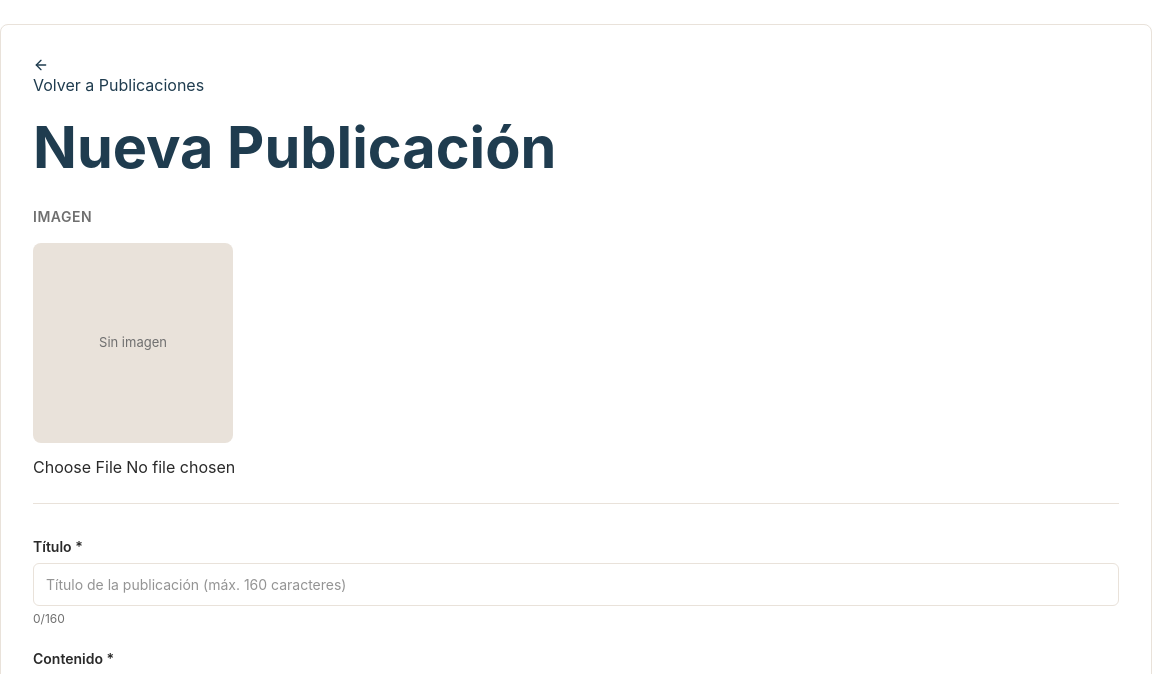
it: CreatePostForm › redirects to /admin/posts after success
Type "T" into the field labelled "Título *". click: [576, 585]
box: [33,563,1119,606]
(page scrolled)
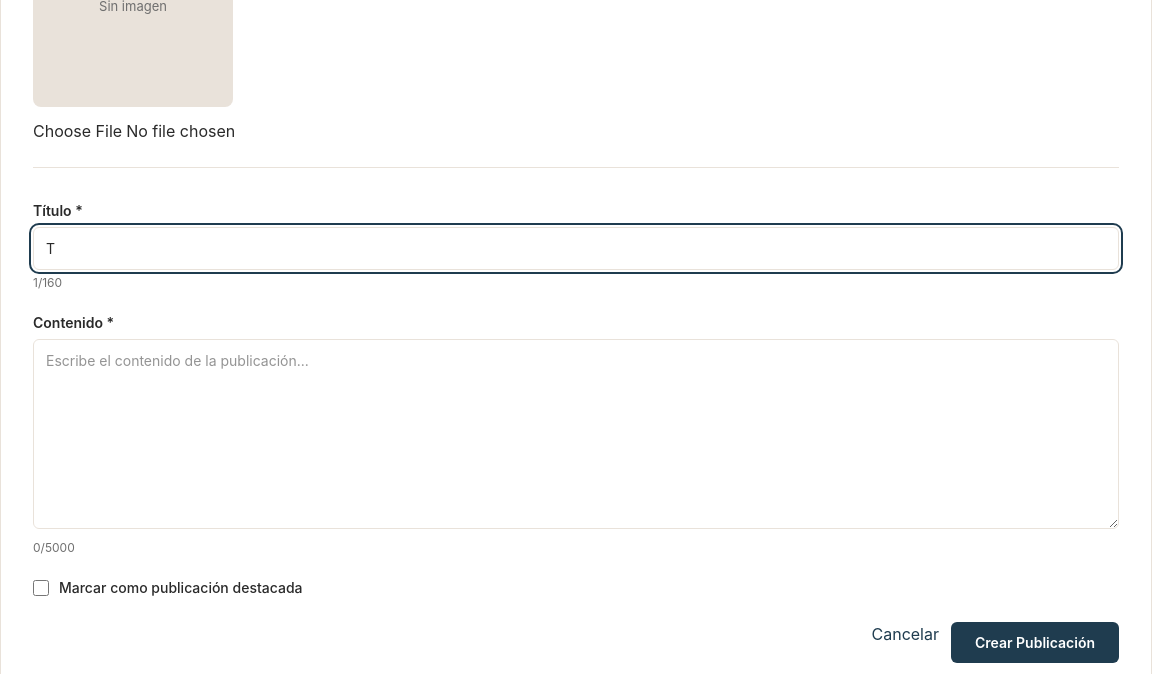
Type "B" into the text box labelled "Contenido *". click: [576, 434]
box: [33,339,1119,529]
(page scrolled)
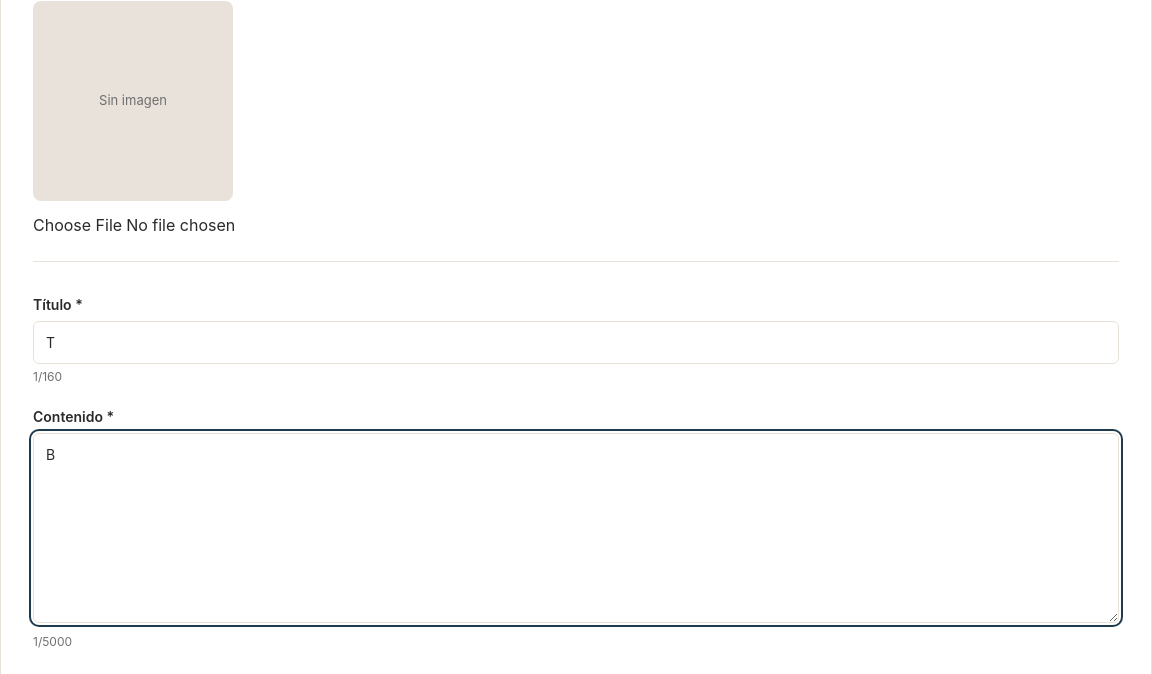
Submit the form named "crear publicación"
(page scrolled)
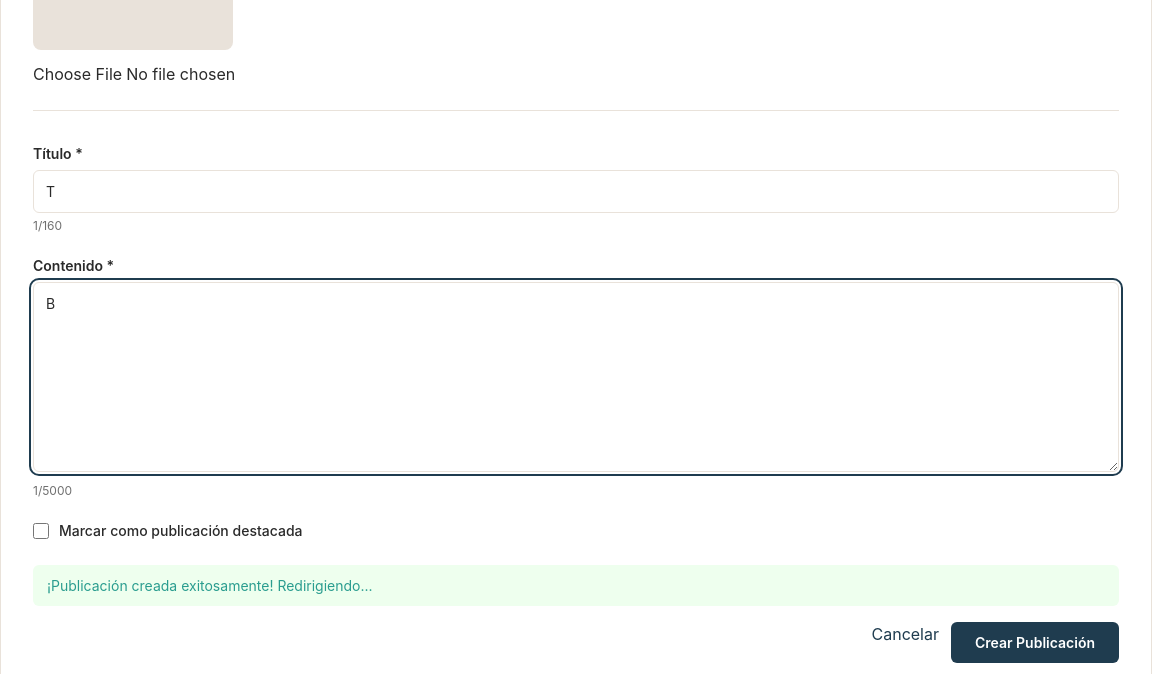
Expected: the text "¡Publicación creada exitosamente! Redirigiendo..." is shown, [33,565,1119,606]
